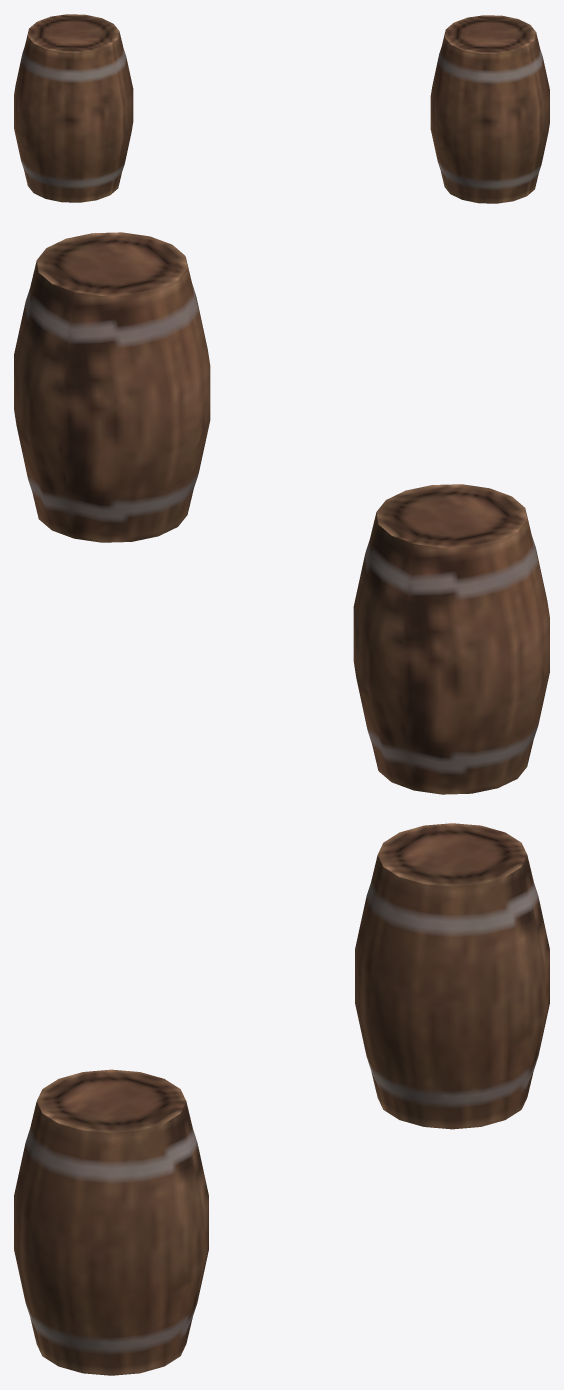
The model's file is Props_02_Barrels_Unity.FBX.
The picture shows the model from 3 angles, top to bottom: view 1: azimuth 30°, elevation 25°; view 2: azimuth 150°, elevation 25°; view 3: azimuth 270°, elevation 25°; orthographic projection. The views are drawn at different scales.
Parts seen in each view (by area): view 1: Props_02_Barrels_Unity; view 2: Props_02_Barrels_Unity; view 3: Props_02_Barrels_Unity.
Boxes of the visible parts, x1,y1,x2,y2 form: Props_02_Barrels_Unity: (14, 14, 549, 203); Props_02_Barrels_Unity: (14, 232, 549, 794); Props_02_Barrels_Unity: (14, 823, 549, 1375).
Size of the model in its own units: 216 by 74.54 by 149.
Materials: 1 (1 with a texture image).
